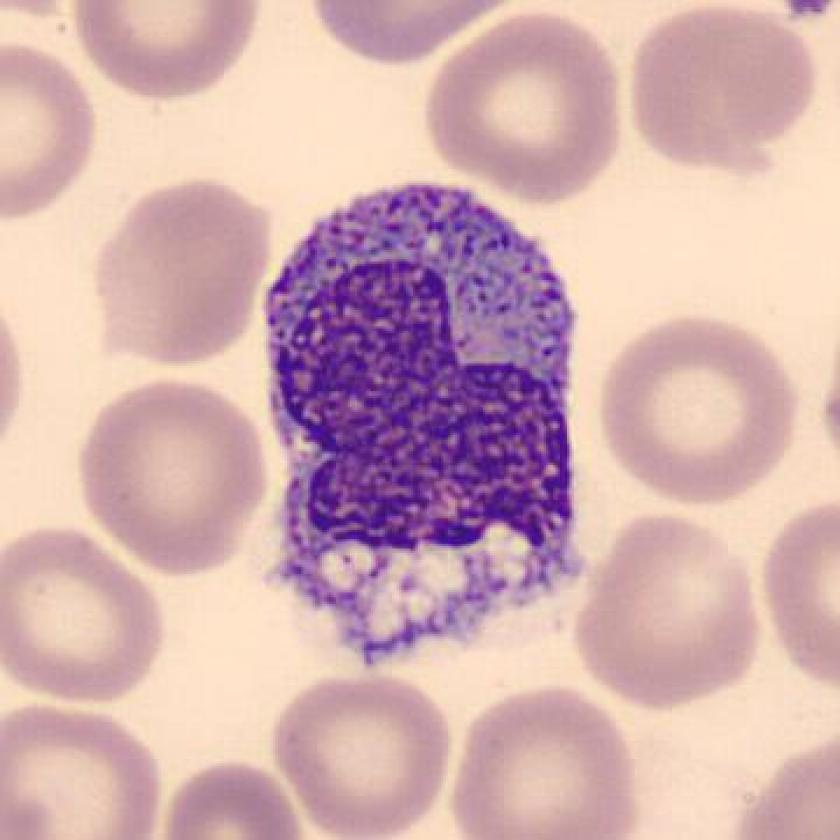monocyte: (244, 156, 617, 684)
